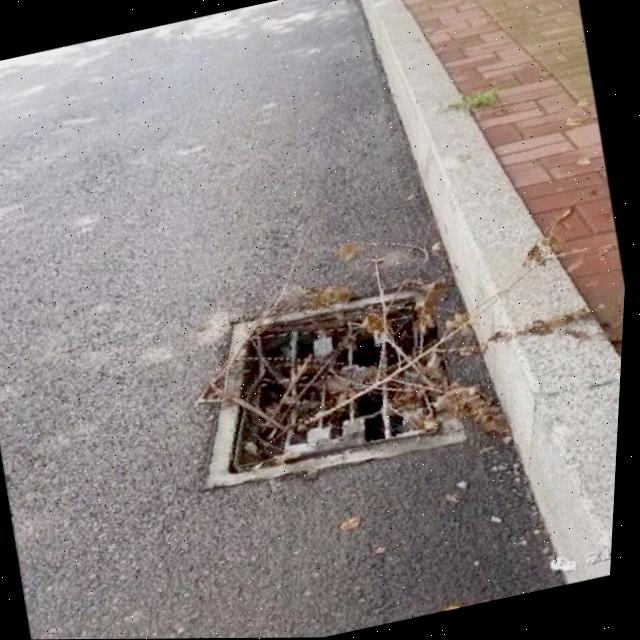manhole: (175, 270, 482, 503)
